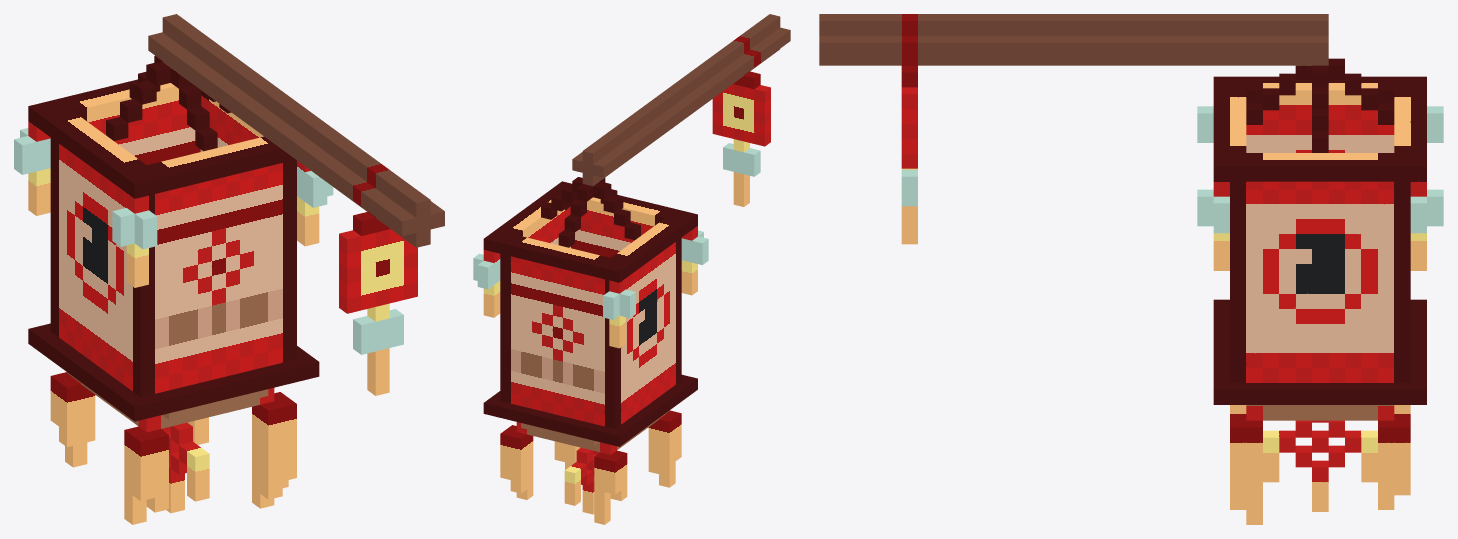
File: 新春灯笼.gltf
3 renders of one model, left to right at view 1: azimuth 30°, elevation 25°; view 2: azimuth 150°, elevation 25°; view 3: azimuth 270°, elevation 25°, orthographic. The views are drawn at different scales.
Visible parts, largest first — view 1: Object; view 2: Object; view 3: Object.
Boxes of the visible parts, x1,y1,x2,y2 form: Object: [14, 14, 444, 524]; Object: [473, 14, 790, 524]; Object: [819, 14, 1443, 524].
Bounding box in the file's own units: 15 × 33 × 38.
Materials: 1 (1 with a texture image).
